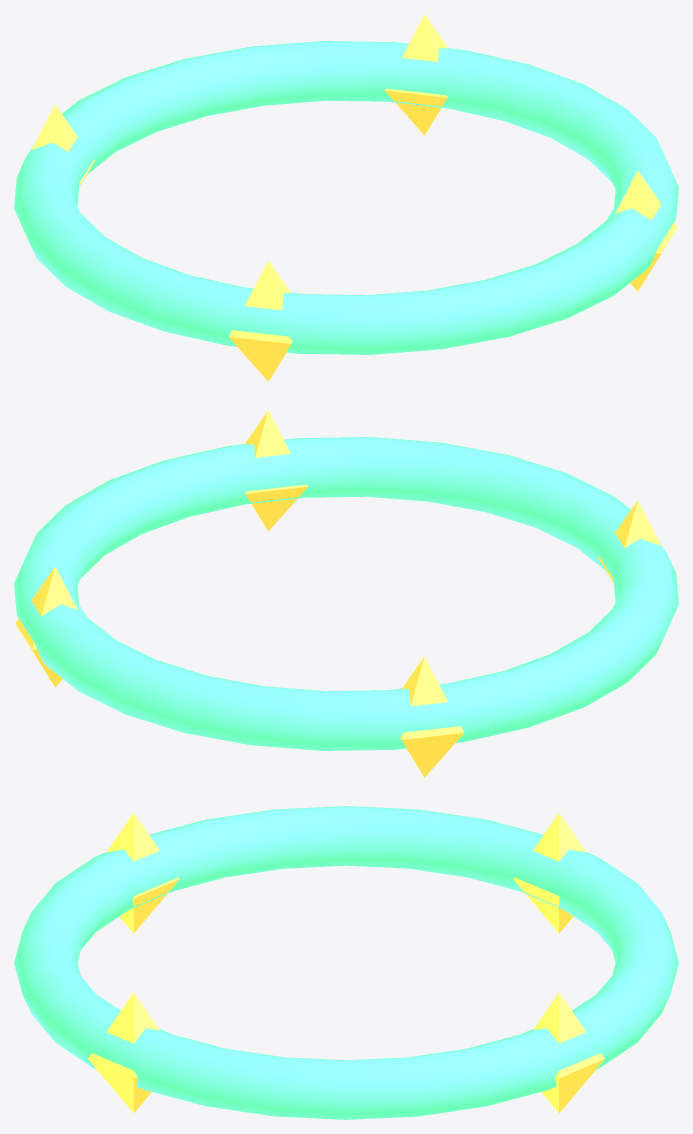
File: headgear_halo.glb
The picture shows the model from 3 angles, top to bottom: view 1: azimuth 30°, elevation 25°; view 2: azimuth 150°, elevation 25°; view 3: azimuth 270°, elevation 25°; orthographic projection.
Visible parts, largest first — view 1: HaloRing, HaloLeaf_2, HaloLeaf_0, HaloLeaf_3, HaloLeaf_1; view 2: HaloRing, HaloLeaf_1, HaloLeaf_3, HaloLeaf_0, HaloLeaf_2; view 3: HaloRing, HaloLeaf_0, HaloLeaf_3, HaloLeaf_1, HaloLeaf_2.
Part boxes in pixels (x1=…): HaloRing: x1=14, y1=41, x2=678, y2=354; HaloLeaf_2: x1=228, y1=260, x2=292, y2=381; HaloLeaf_0: x1=384, y1=14, x2=447, y2=135; HaloLeaf_3: x1=615, y1=170, x2=677, y2=291; HaloLeaf_1: x1=15, y1=104, x2=94, y2=185; HaloRing: x1=14, y1=437, x2=678, y2=750; HaloLeaf_1: x1=400, y1=656, x2=464, y2=777; HaloLeaf_3: x1=245, y1=410, x2=308, y2=531; HaloLeaf_0: x1=15, y1=566, x2=77, y2=687; HaloLeaf_2: x1=598, y1=500, x2=677, y2=581; HaloRing: x1=14, y1=806, x2=678, y2=1119; HaloLeaf_0: x1=533, y1=992, x2=604, y2=1112; HaloLeaf_3: x1=88, y1=992, x2=159, y2=1112; HaloLeaf_1: x1=513, y1=813, x2=585, y2=933; HaloLeaf_2: x1=107, y1=813, x2=179, y2=933.
Size of the model in its own units: 0.796 by 0.16 by 0.796.
